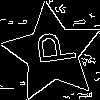P: (27, 27, 77, 68)
